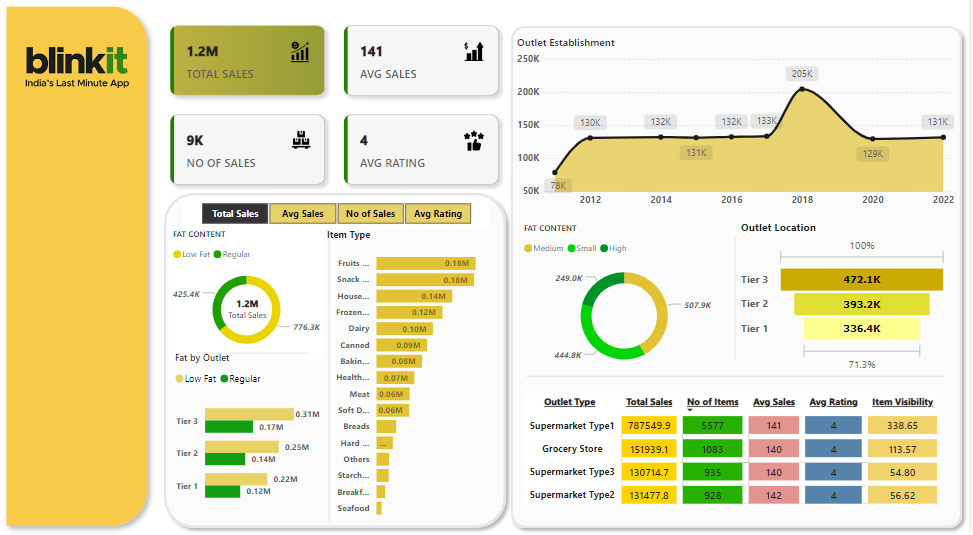

The dashboard page shown, as its layout file describes it:
{"tool":"powerbi","page":{"name":"Dashboard","canvas":[1280,720],"ordinal":0},"visuals":[{"type":"shape","box":[26.4,25.5,205.5,694.5],"z":0},{"type":"image","box":[39,74.3,181,82.9],"z":1000},{"type":"cardVisual","fields":{"Data":["BlinkIT Grocery Data.Total Sales","BlinkIT Grocery Data.Avg Sales","BlinkIT Grocery Data.No of Sales","BlinkIT Grocery Data.Avg Rating"]},"box":[232.3,45.2,459.4,240],"z":2000},{"type":"shape","box":[232.7,270,459.1,450],"z":3000},{"type":"donutChart","title":"FAT CONTENT","fields":{"Y":["BlinkIT Grocery Data.Total Sales"],"Category":["BlinkIT Grocery Data.Item Fat Content"]},"box":[247.1,324.3,200,168.6],"z":4000},{"type":"slicer","fields":{"Values":["Metric.Metric"]},"box":[264.3,285.7,397.1,38.6],"z":5000},{"type":"cardVisual","fields":{"Data":["BlinkIT Grocery Data.Total Sales"]},"box":[308,401,81,50],"z":6000},{"type":"clusteredBarChart","title":"Fat by Outlet","fields":{"Y":["BlinkIT Grocery Data.Total Sales"],"Category":["BlinkIT Grocery Data.Outlet Location Type"],"Series":["BlinkIT Grocery Data.Item Fat Content"]},"box":[250,482.9,197.1,212.9],"z":7000},{"type":"barChart","title":"Item Type","fields":{"Y":["BlinkIT Grocery Data.Total Sales"],"Category":["BlinkIT Grocery Data.Item Type"]},"box":[446.7,324.4,232.2,383.3],"z":8000},{"type":"shape","box":[284.3,482.9,142.9,5.7],"z":9000},{"type":"shape","box":[447,327,16,376],"z":10000},{"type":"shape","box":[680,54.3,600,665.7],"z":11000},{"type":"lineChart","title":"Outlet Establishment","fields":{"Y":["BlinkIT Grocery Data.Total Sales"],"Category":["BlinkIT Grocery Data.Outlet Establishment Year"]},"box":[691.4,74.3,574.3,231.4],"z":12000},{"type":"donutChart","title":"FAT CONTENT","fields":{"Y":["BlinkIT Grocery Data.Total Sales"],"Category":["BlinkIT Grocery Data.Outlet Size"]},"box":[701,316,269,200],"z":13000},{"type":"funnel","title":"Outlet Location","fields":{"Category":["BlinkIT Grocery Data.Outlet Location Type"],"Y":["BlinkIT Grocery Data.Total Sales"]},"box":[980,314,276,200],"z":14000},{"type":"shape","box":[709,488,541,55],"z":15000},{"type":"shape","box":[945,336,67,159],"z":16000},{"type":"pivotTable","fields":{"Values":["BlinkIT Grocery Data.Total Sales","BlinkIT Grocery Data.No of Sales","BlinkIT Grocery Data.Avg Sales","BlinkIT Grocery Data.Avg Rating","Sum(BlinkIT Grocery Data.Item Visibility)"],"Rows":["BlinkIT Grocery Data.Outlet Type"]},"box":[701.1,531.1,556.7,165.6],"z":17000}]}

Visuals, with their boxes in screenshot pixels (x1, y1, x2, y2), scaled from the page's 1280x720 canvas onto the 973x535 screenshot:
shape: 20 19 176 534
image: 30 55 167 117
cardVisual - BlinkIT Grocery Data.Total Sales x BlinkIT Grocery Data.Avg Sales: 177 34 526 212
shape: 177 201 526 534
"FAT CONTENT" donutChart: 188 241 340 366
slicer - Metric.Metric: 201 212 503 241
cardVisual - BlinkIT Grocery Data.Total Sales: 234 298 296 335
"Fat by Outlet" clusteredBarChart: 190 359 340 517
"Item Type" barChart: 340 241 516 526
shape: 216 359 325 363
shape: 340 243 352 522
shape: 517 40 972 534
"Outlet Establishment" lineChart: 526 55 962 227
"FAT CONTENT" donutChart: 533 235 737 383
"Outlet Location" funnel: 745 233 955 382
shape: 539 363 950 403
shape: 718 250 769 368
pivotTable - BlinkIT Grocery Data.Total Sales x BlinkIT Grocery Data.No of Sales: 533 395 956 518
